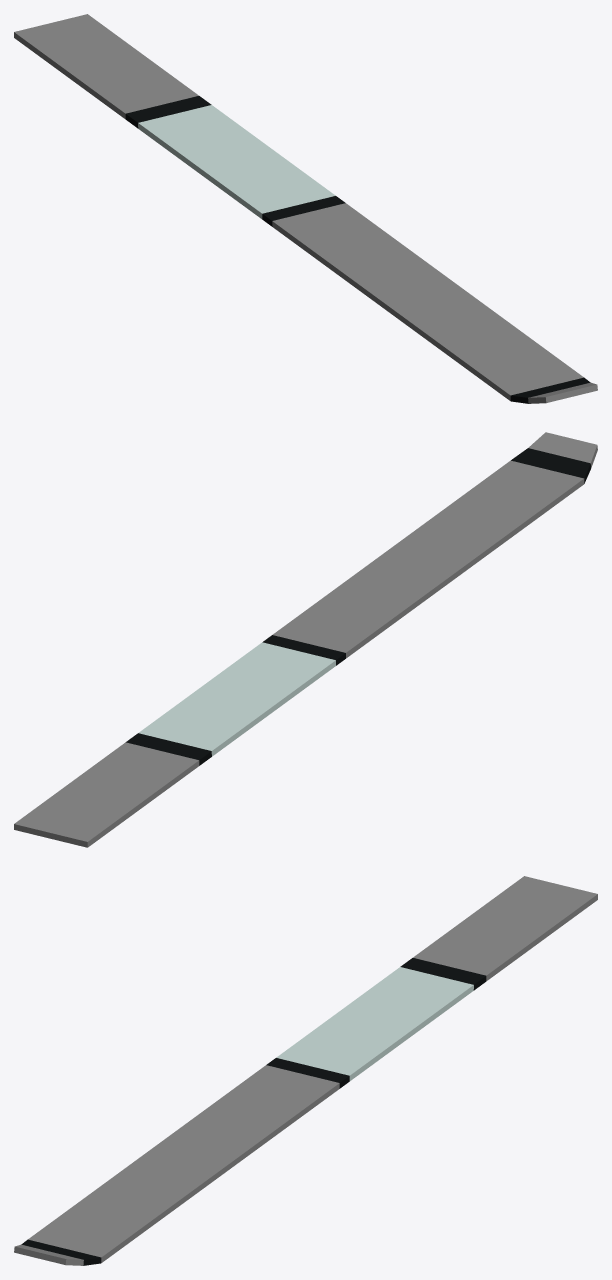
File: Ski_Jumper_2_Ski_Right.fbx
3 views of the same model, one above another, from view 1: azimuth 30°, elevation 25°; view 2: azimuth 150°, elevation 25°; view 3: azimuth 330°, elevation 25° (orthographic).
Visible parts, largest first — view 1: Ski_Jumper_2_Ski_Right; view 2: Ski_Jumper_2_Ski_Right; view 3: Ski_Jumper_2_Ski_Right.
Part boxes in pixels (x1,y1,x2,y2): Ski_Jumper_2_Ski_Right: (14, 14, 597, 403); Ski_Jumper_2_Ski_Right: (14, 432, 597, 847); Ski_Jumper_2_Ski_Right: (14, 876, 597, 1265).
Bounding box in the file's own units: 12.76 × 3.18 × 156.
